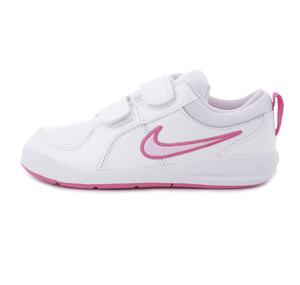nike: (139, 124, 242, 159)
